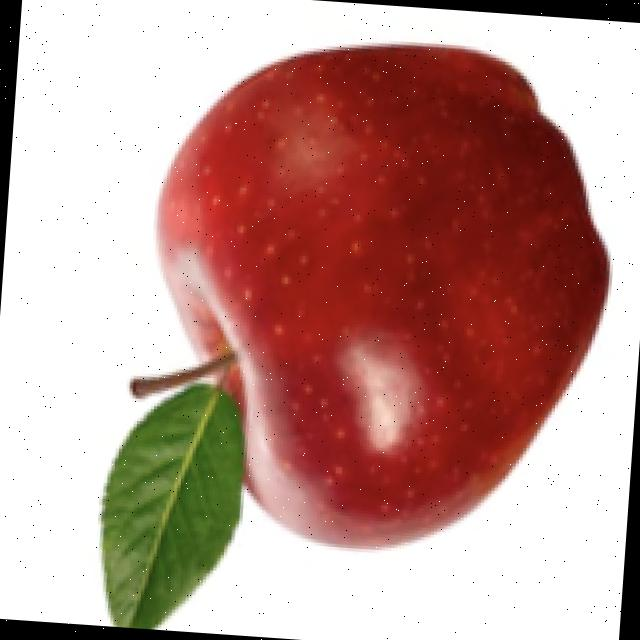apple: (94, 38, 613, 630)
